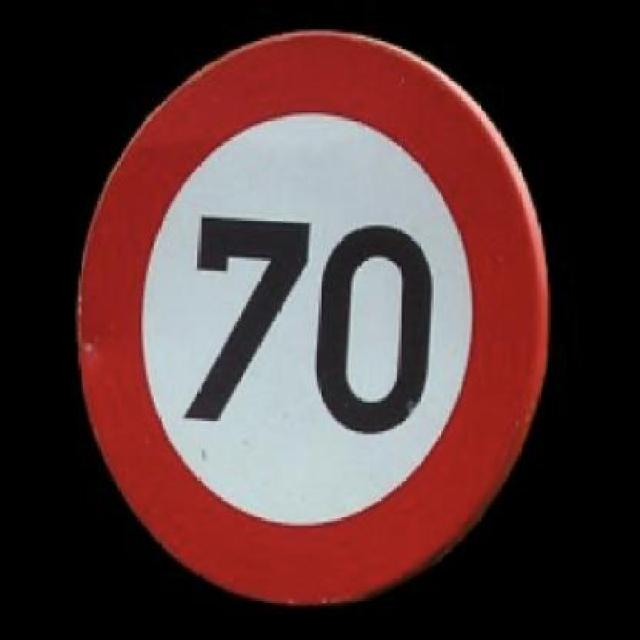speed limit 70: (71, 29, 552, 608)
